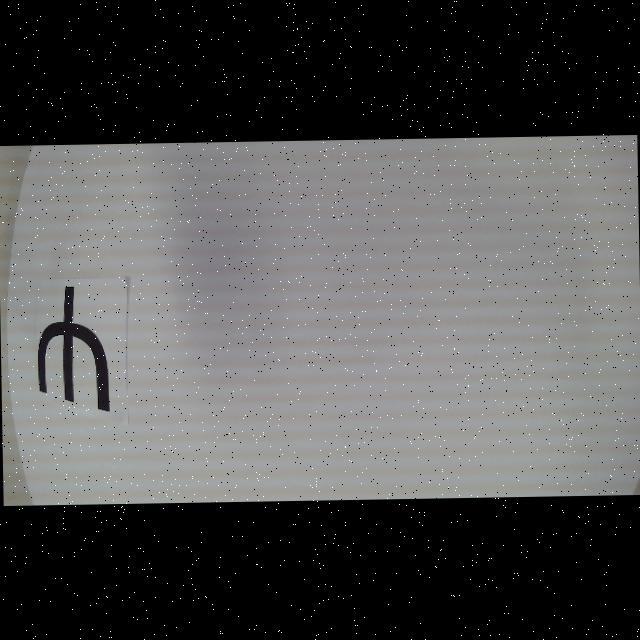PSI: (36, 284, 110, 413)
